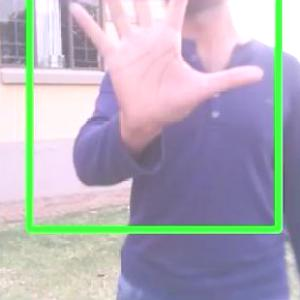follow_hand: (65, 0, 270, 143)
